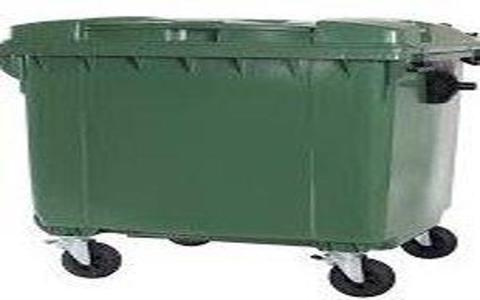Proper garbage: (2, 1, 470, 297)
